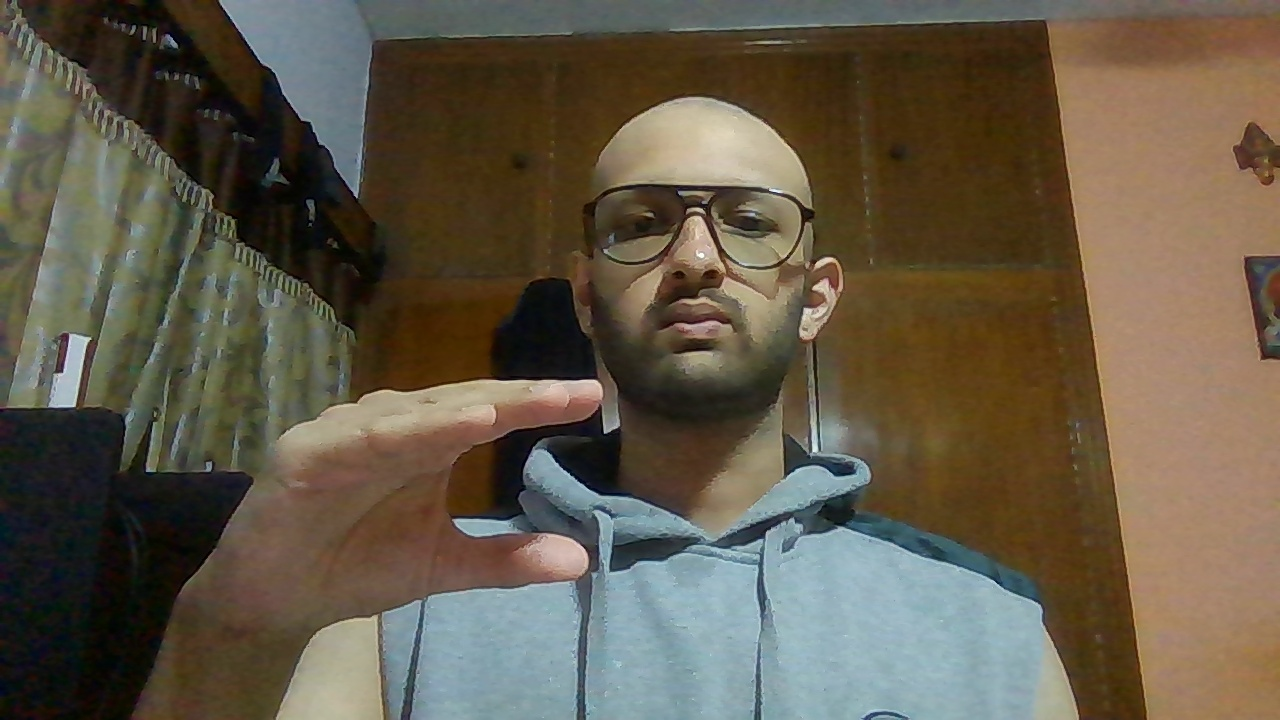No: (193, 369, 611, 630)
